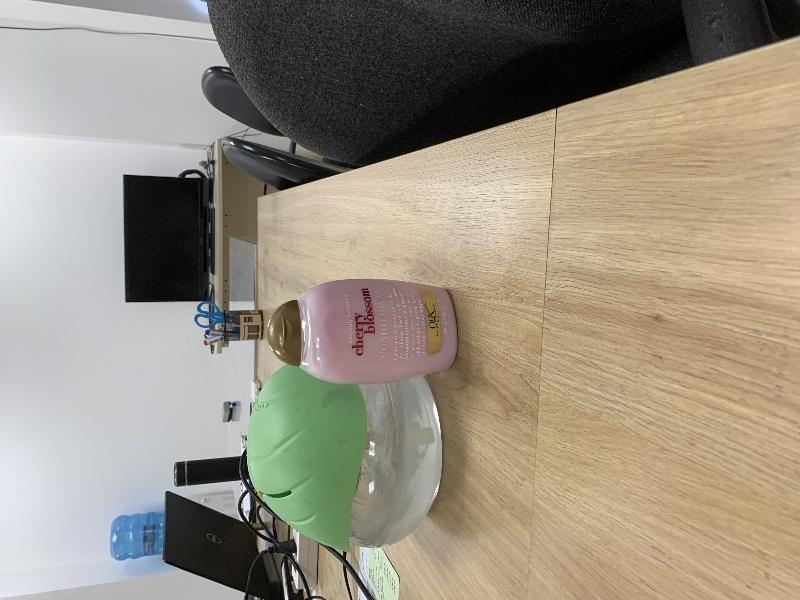CherryBlossom_Conditioner: (267, 278, 458, 384)
